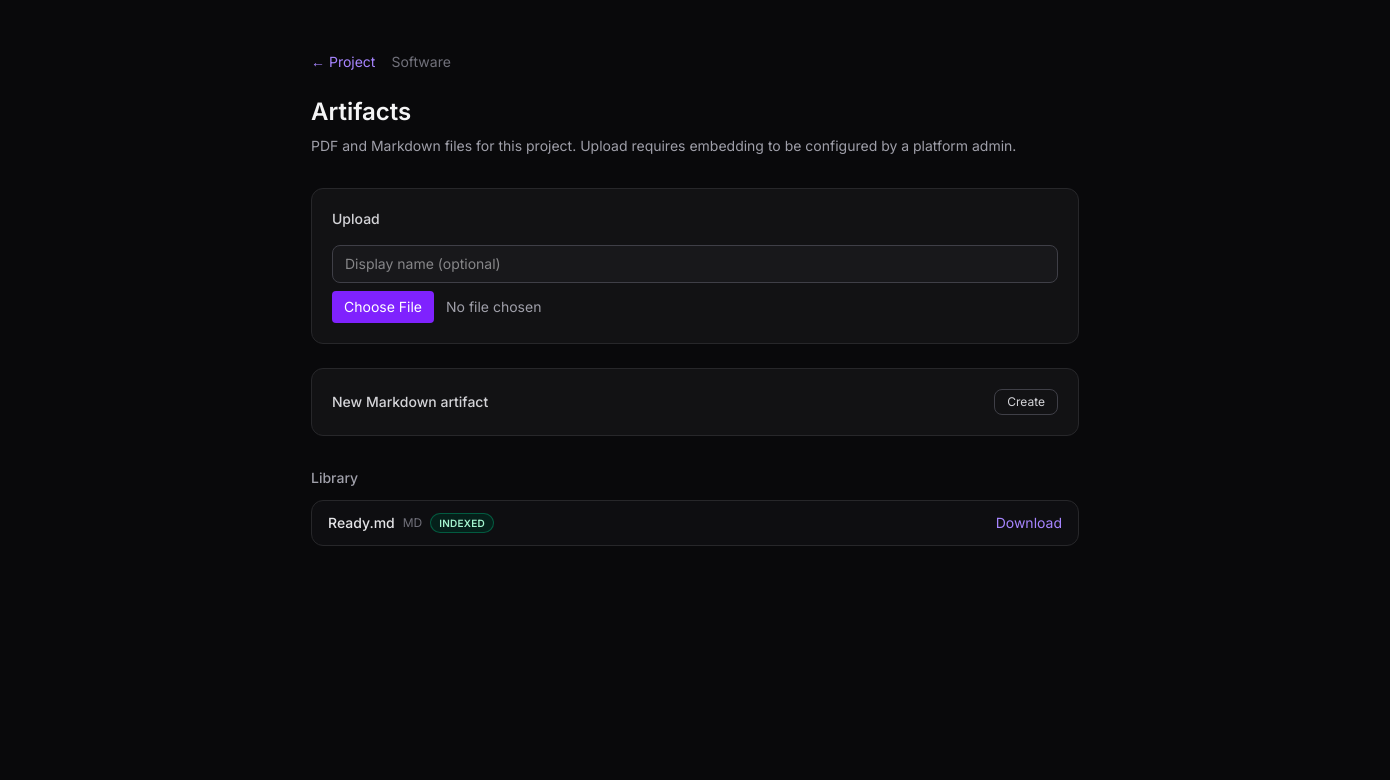
Test case: ArtifactsPage › opens drawer with chunk previews for a Builder
Expected: the text "Ready.md" is shown, x1=328 y1=513 x2=395 y2=533
Click the button "Ready.md md Indexed Download".
click(361, 523)  # box x1=328 y1=513 x2=1062 y2=533
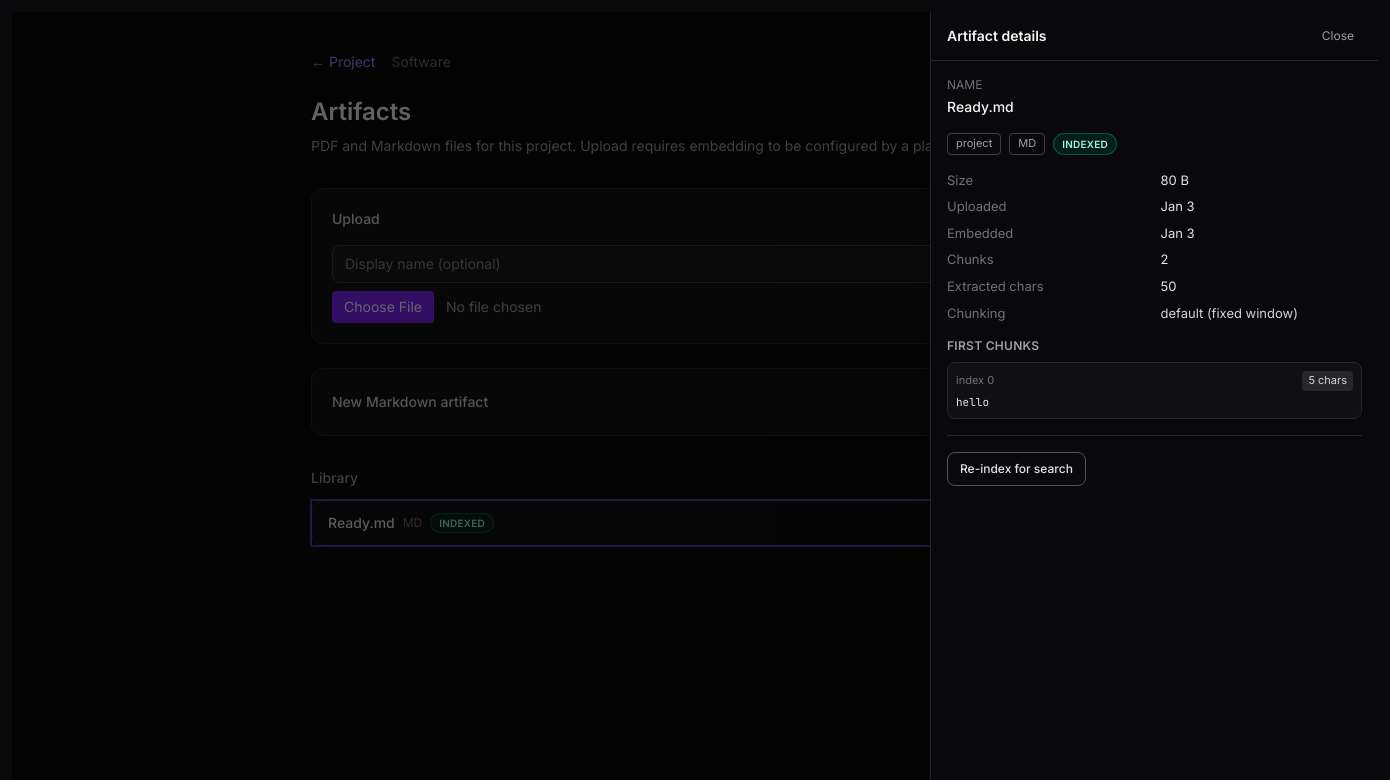
Result: the heading "First chunks" is shown at x1=947 y1=338 x2=1039 y2=353
Result: the text "hello" is shown at x1=956 y1=395 x2=989 y2=409
